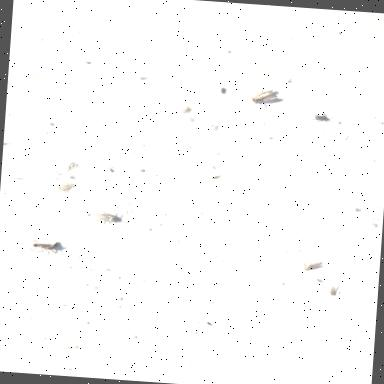pbw: (243, 86, 281, 107)
